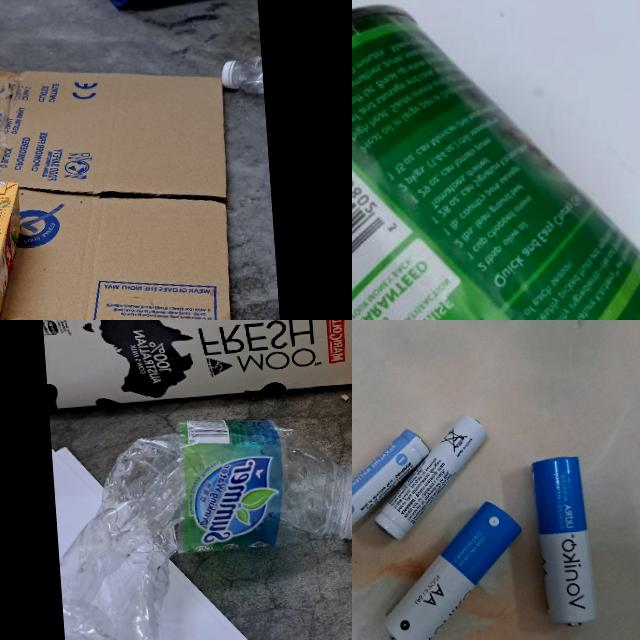bateria: (375, 496, 529, 640), (366, 411, 492, 540), (527, 453, 599, 627), (352, 426, 436, 548)
caixinha: (36, 320, 352, 413), (0, 174, 26, 320)
garrafa plástica: (50, 415, 352, 640), (220, 45, 264, 101)
lata: (352, 0, 640, 320)
papel: (51, 426, 345, 640)
papelão: (0, 32, 252, 320)
tampa plástica: (335, 460, 352, 544), (222, 59, 243, 91)
